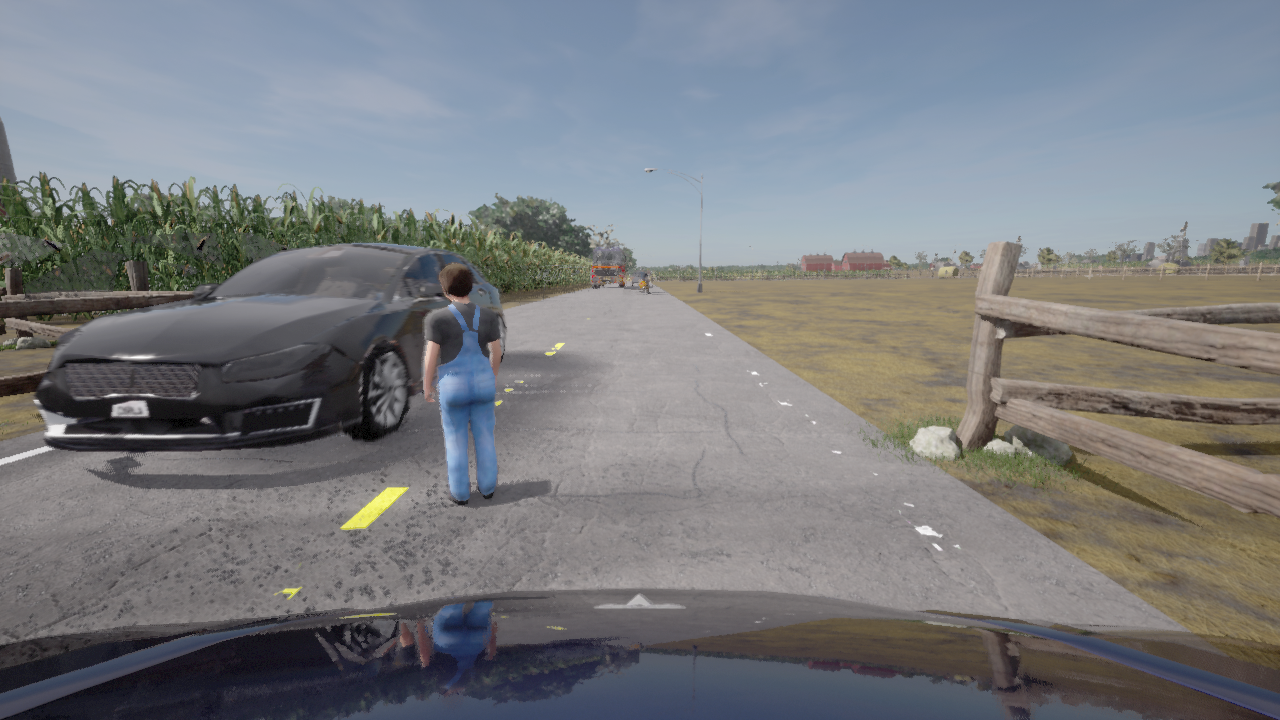cyclist: (0, 588, 1279, 719), (34, 242, 507, 451), (588, 244, 627, 287), (636, 274, 649, 293), (631, 272, 647, 286)
pedestrian: (423, 264, 500, 505)
